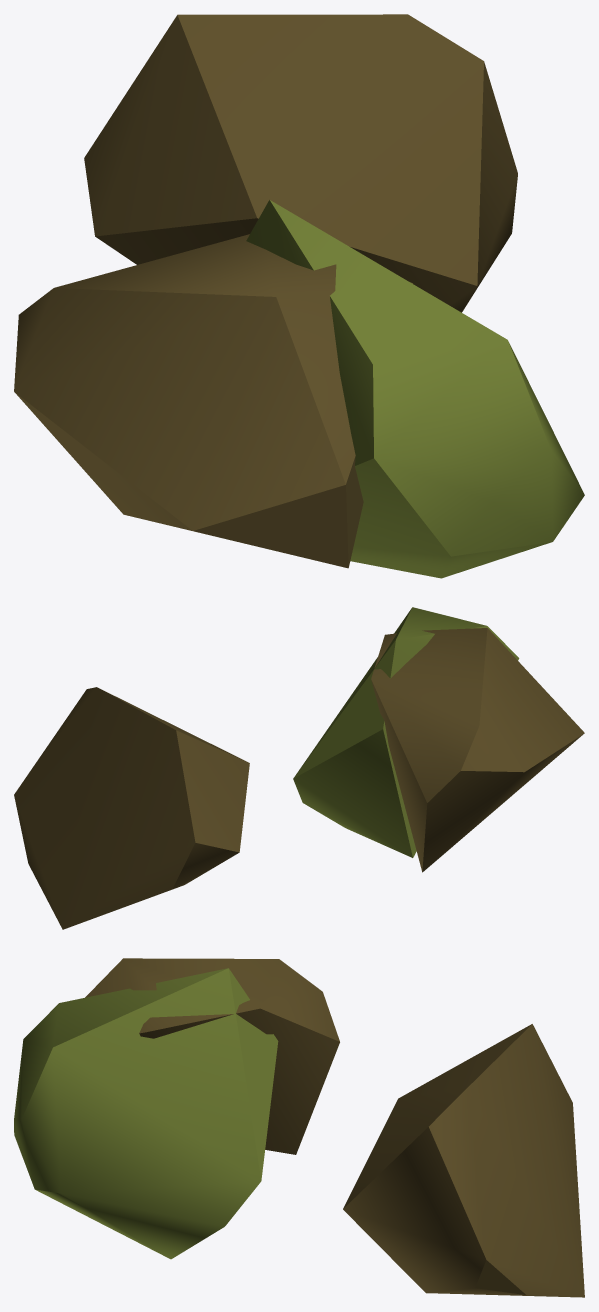
The model's file is coconuts_fallen.glb.
3 renders of one model, top to bottom at view 1: azimuth 30°, elevation 25°; view 2: azimuth 150°, elevation 25°; view 3: azimuth 270°, elevation 25°, orthographic. The views are drawn at different scales.
Visible parts, largest first — view 1: coconuts_fallen; view 2: coconuts_fallen; view 3: coconuts_fallen.
Boxes of the visible parts, x1=… form: coconuts_fallen: x1=14, y1=14, x2=584, y2=578; coconuts_fallen: x1=14, y1=607, x2=584, y2=929; coconuts_fallen: x1=14, y1=958, x2=584, y2=1297.
Size of the model in its own units: 0.5706 by 0.3038 by 0.6287.
